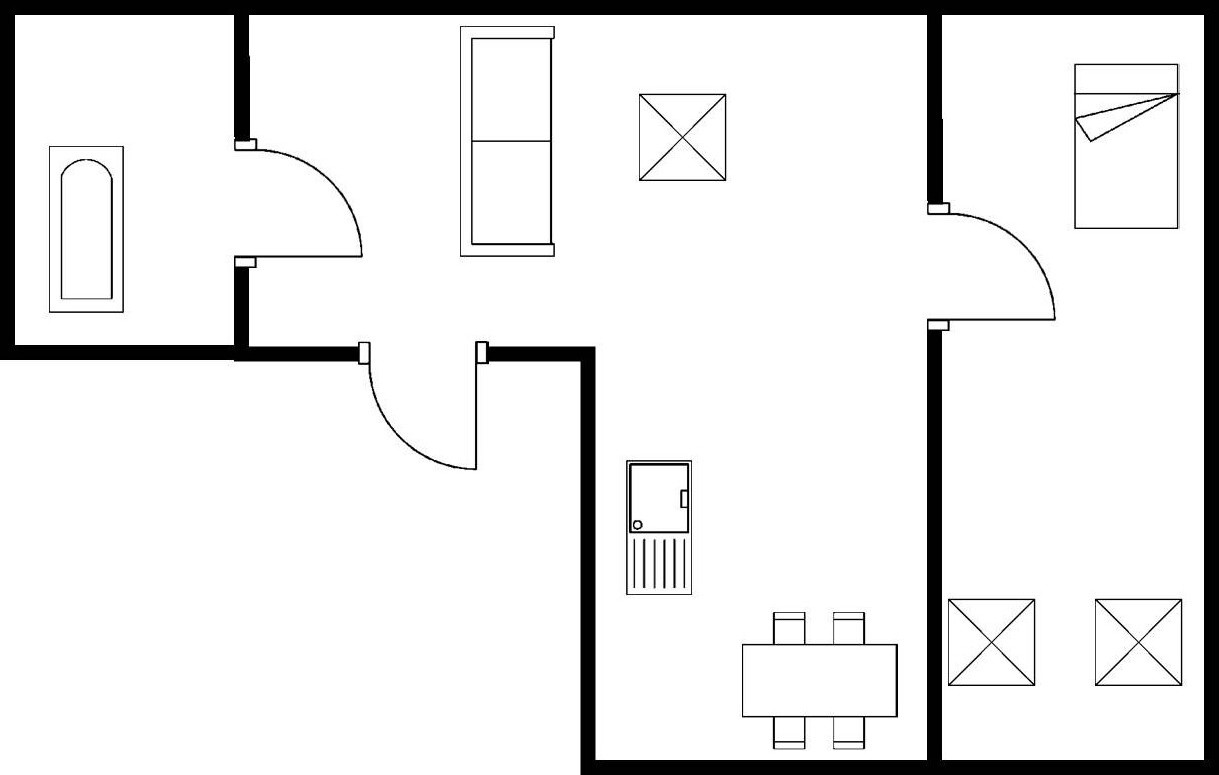bed: (1067, 58, 1184, 234)
coffee_table: (635, 90, 732, 188), (945, 595, 1042, 692), (1089, 597, 1183, 692)
dining_table: (738, 607, 905, 754), (945, 593, 1041, 692)
large_sofa: (456, 21, 558, 263)
sink: (620, 455, 697, 599)
tub: (45, 141, 128, 317)
